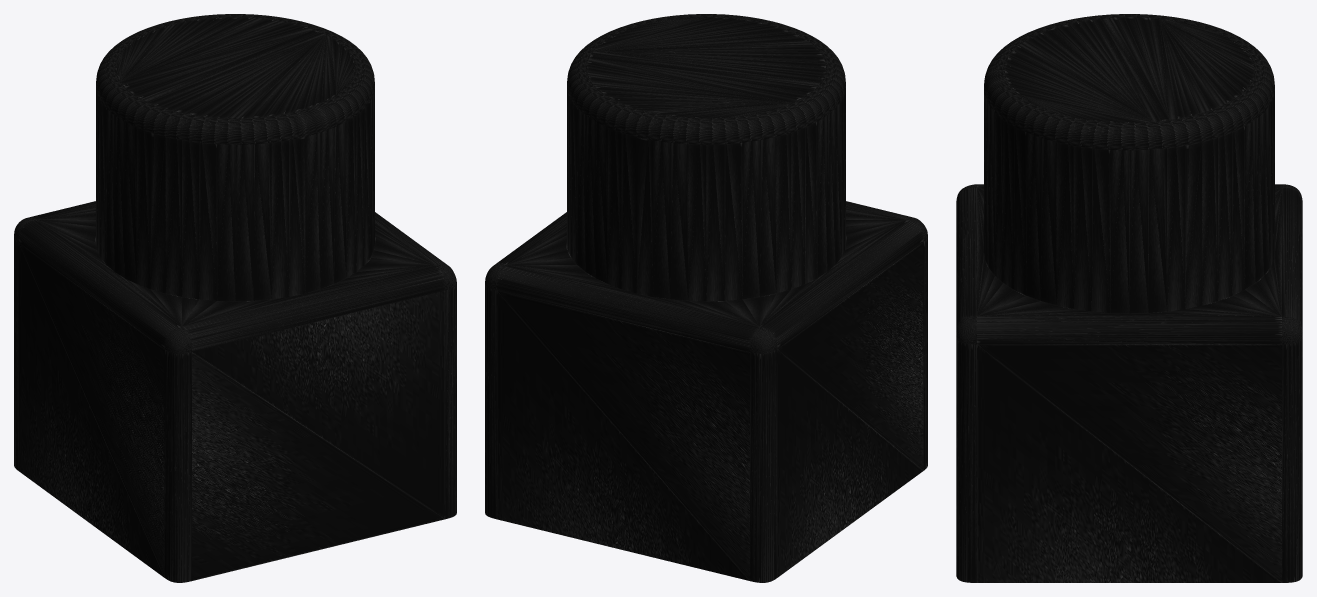
The model's file is hokuyo.dae.
3 views of the same model, side by side, from view 1: azimuth 30°, elevation 25°; view 2: azimuth 150°, elevation 25°; view 3: azimuth 270°, elevation 25° (orthographic). The views are drawn at different scales.
Visible parts, largest first — view 1: hokuyo; view 2: hokuyo; view 3: hokuyo.
Part boxes in pixels (box(x1,y1,x2,y2)): hokuyo: box(14, 14, 456, 582); hokuyo: box(485, 14, 927, 582); hokuyo: box(956, 14, 1302, 582).
Size of the model in its own units: 0.05 by 0.05 by 0.07.
Materials: 1 (1 with a texture image).
